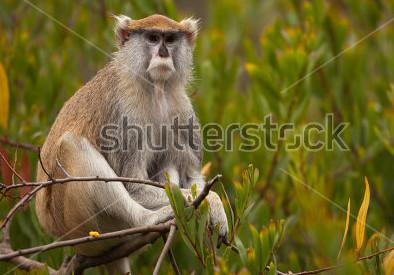monkey: (40, 16, 206, 202), (36, 183, 174, 237)
